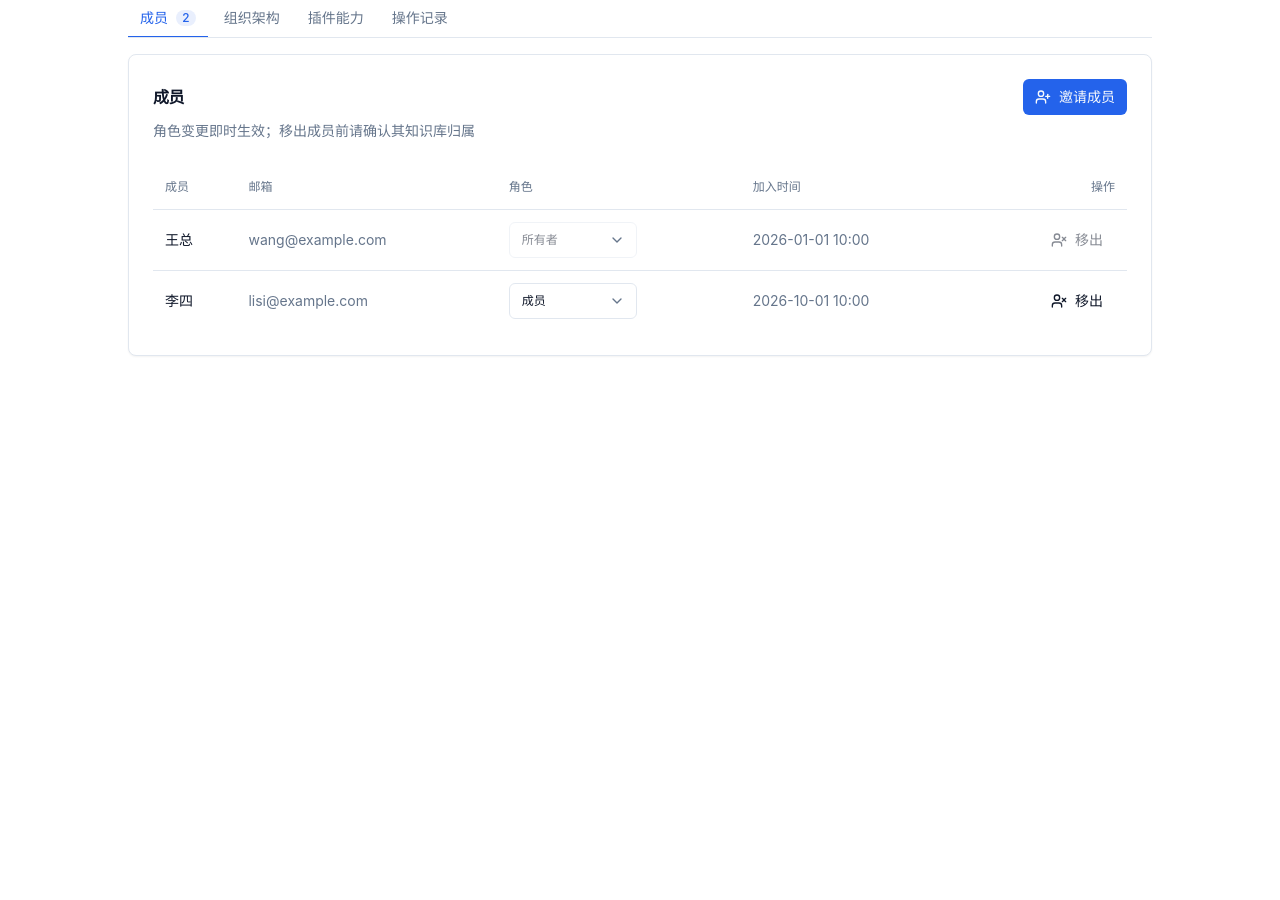
Test: 团队管理页 › 移出成员二次确认并说明知识库转交口径
The width and height of the screenshot is (1280, 900).
Later steps or results of the test are not shown.
Click the button "移出" in the row of "李四" at (1077, 300), box [1039,282,1115,318]
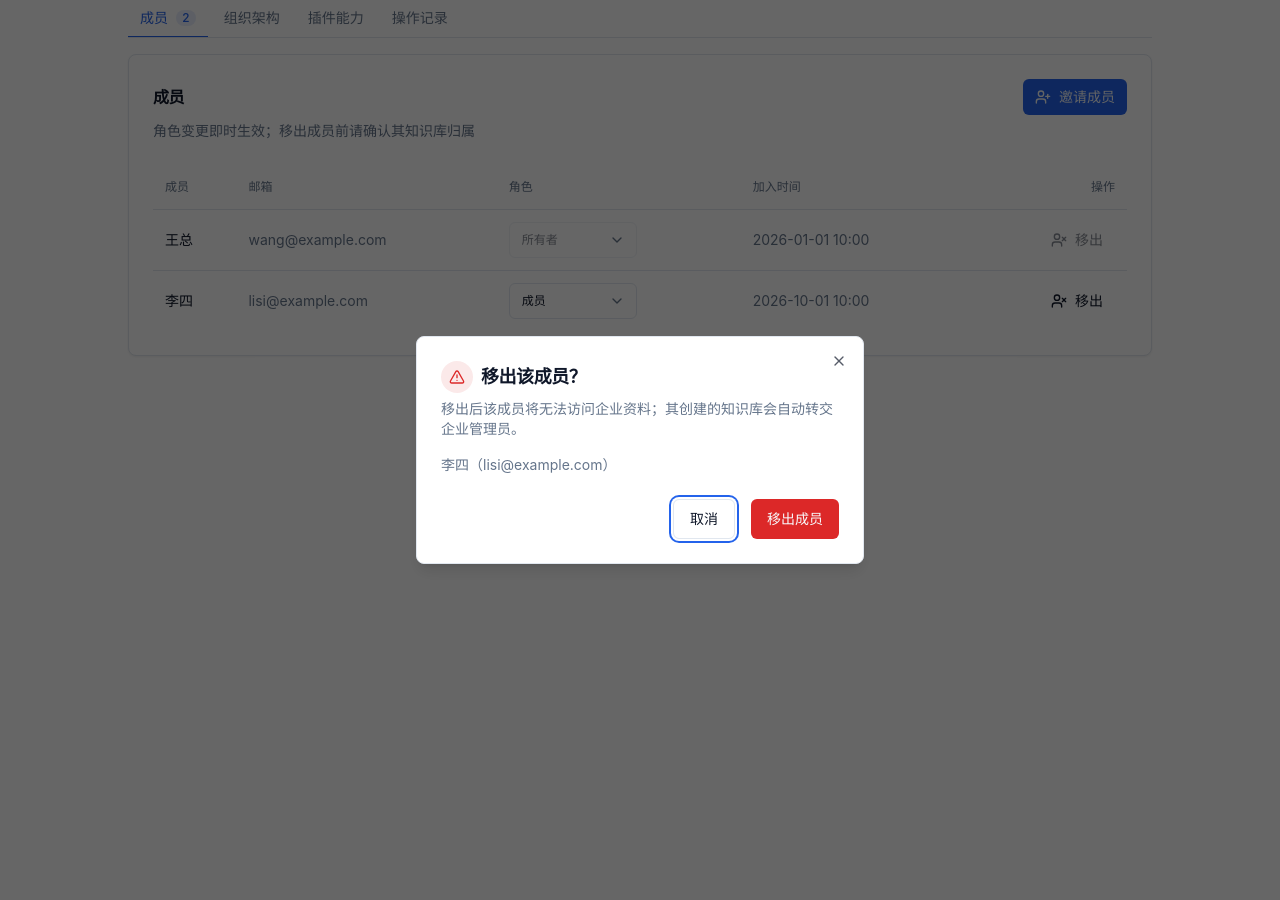
Expected: the text "移出该成员？" is shown, [481,368,586,386]
Expected: the text "其创建的知识库会自动转交企业管理员" is shown, [441,400,833,437]
